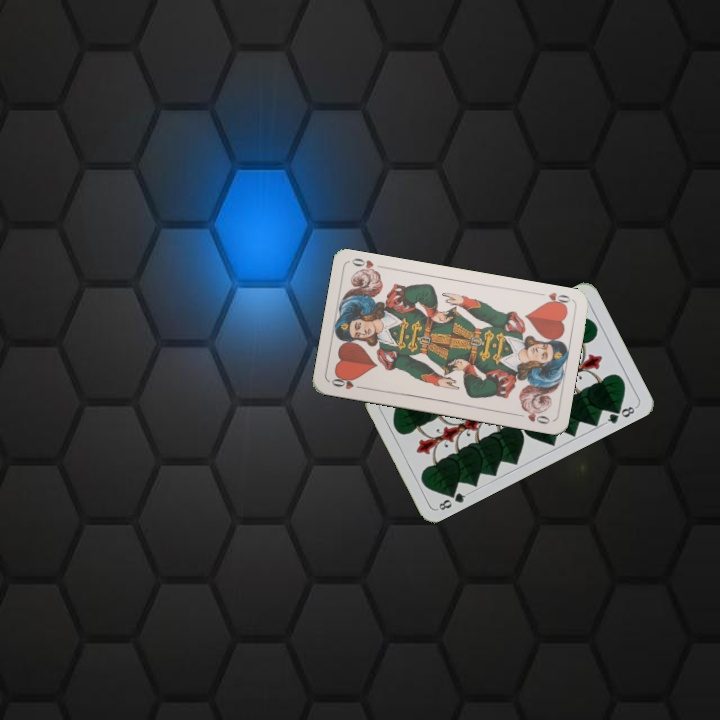G8: (433, 486, 472, 513)
HO: (533, 288, 574, 310), (327, 372, 367, 392)
